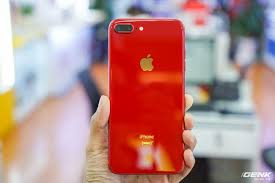iphone: (106, 16, 185, 179)
